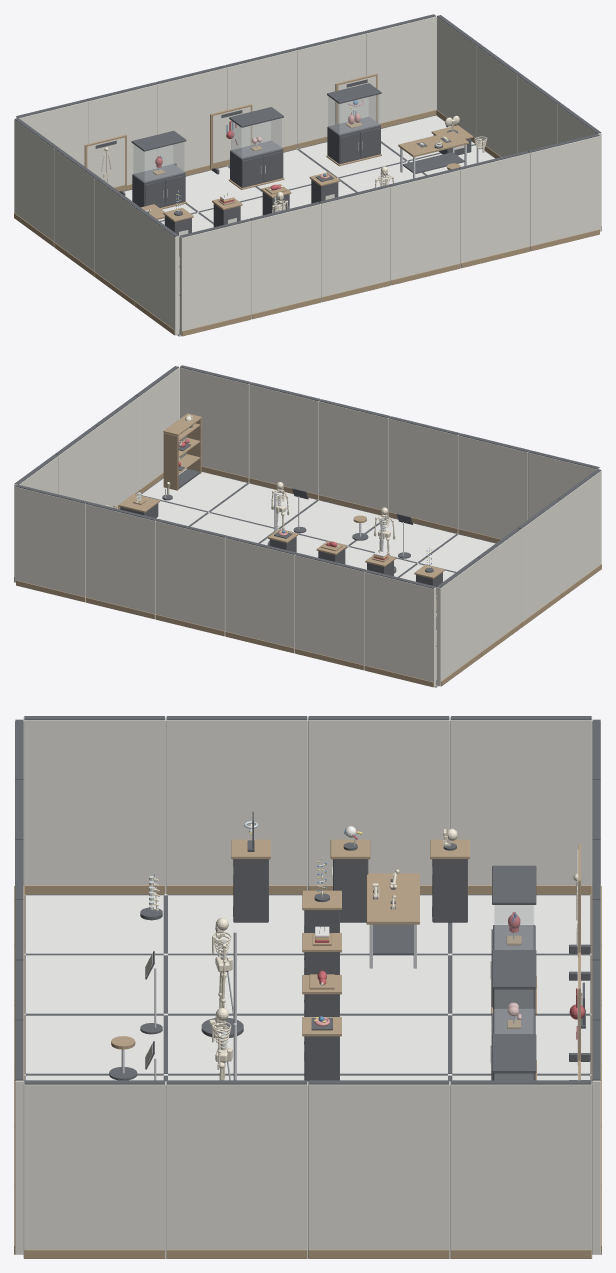
Rendered from human-anatomy-and-education-kit-anatomy--bfb5dd3d-starter-scene.glb.
3 renders of one model, top to bottom at view 1: azimuth 30°, elevation 25°; view 2: azimuth 150°, elevation 25°; view 3: azimuth 270°, elevation 25°, orthographic. The views are drawn at different scales.
Parts seen in each view (by area): view 1: 030-wall-panel-2m/0, 033-wall-panel-2m/0, 031-wall-panel-2m/0, 034-wall-panel-2m/0, 032-wall-panel-2m/0, 035-wall-panel-2m/0, 029-wall-panel-2m/0, 026-wall-panel-2m/0, 028-wall-panel-2m/0, 027-wall-panel-2m/0, 039-wall-panel-2m/0, 025-wall-panel-2m/0 (+36 smaller); view 2: 024-wall-panel-2m/0, 027-wall-panel-2m/0, 032-wall-panel-2m/0, 025-wall-panel-2m/0, 028-wall-panel-2m/0, 026-wall-panel-2m/0, 029-wall-panel-2m/0, 033-wall-panel-2m/0, 034-wall-panel-2m/0, 031-wall-panel-2m/0, 035-wall-panel-2m/0, 036-wall-panel-2m/0 (+19 smaller); view 3: 040-wall-panel-2m/0, 041-wall-panel-2m/0, 042-wall-panel-2m/0, 043-wall-panel-2m/0, 039-wall-panel-2m/0, 038-wall-panel-2m/0, 036-wall-panel-2m/0, 037-wall-panel-2m/0, 007-floor-tile-light/0, 003-floor-tile-light/0, 011-floor-tile-light/0, 006-floor-tile-light/0 (+50 smaller).
Boxes of the visible parts, x1,y1,x2,y2 form: 030-wall-panel-2m/0: (179,221,251,335); 033-wall-panel-2m/0: (390,170,460,284); 031-wall-panel-2m/0: (251,204,320,318); 034-wall-panel-2m/0: (460,153,529,267); 032-wall-panel-2m/0: (320,187,390,301); 035-wall-panel-2m/0: (530,136,599,250); 029-wall-panel-2m/0: (366,16,436,123); 026-wall-panel-2m/0: (157,67,227,170); 028-wall-panel-2m/0: (296,33,366,148); 027-wall-panel-2m/0: (227,50,296,165); 039-wall-panel-2m/0: (135,208,179,335); 025-wall-panel-2m/0: (88,84,157,184); 024-wall-panel-2m/0: (364,572,436,686); 027-wall-panel-2m/0: (155,521,225,635); 032-wall-panel-2m/0: (388,418,458,533); 025-wall-panel-2m/0: (295,555,364,669); 028-wall-panel-2m/0: (86,504,155,618); 026-wall-panel-2m/0: (225,538,295,652); 029-wall-panel-2m/0: (16,487,85,601); 033-wall-panel-2m/0: (319,401,388,516); 034-wall-panel-2m/0: (249,384,319,499); 031-wall-panel-2m/0: (458,435,527,539); 035-wall-panel-2m/0: (179,367,249,482); 036-wall-panel-2m/0: (436,559,480,686); 040-wall-panel-2m/0: (450,1081,592,1258); 041-wall-panel-2m/0: (308,1081,450,1258); 042-wall-panel-2m/0: (165,1081,307,1258); 043-wall-panel-2m/0: (23,1081,165,1258); 039-wall-panel-2m/0: (23,717,165,893); 038-wall-panel-2m/0: (165,717,307,893); 036-wall-panel-2m/0: (450,717,592,885); 037-wall-panel-2m/0: (308,717,450,890); 007-floor-tile-light/0: (24,954,165,1014); 003-floor-tile-light/0: (24,894,165,954); 011-floor-tile-light/0: (24,1014,165,1074); 006-floor-tile-light/0: (165,954,304,1014).
Size of the model in its own units: 12.27 by 2.78 by 8.27.
